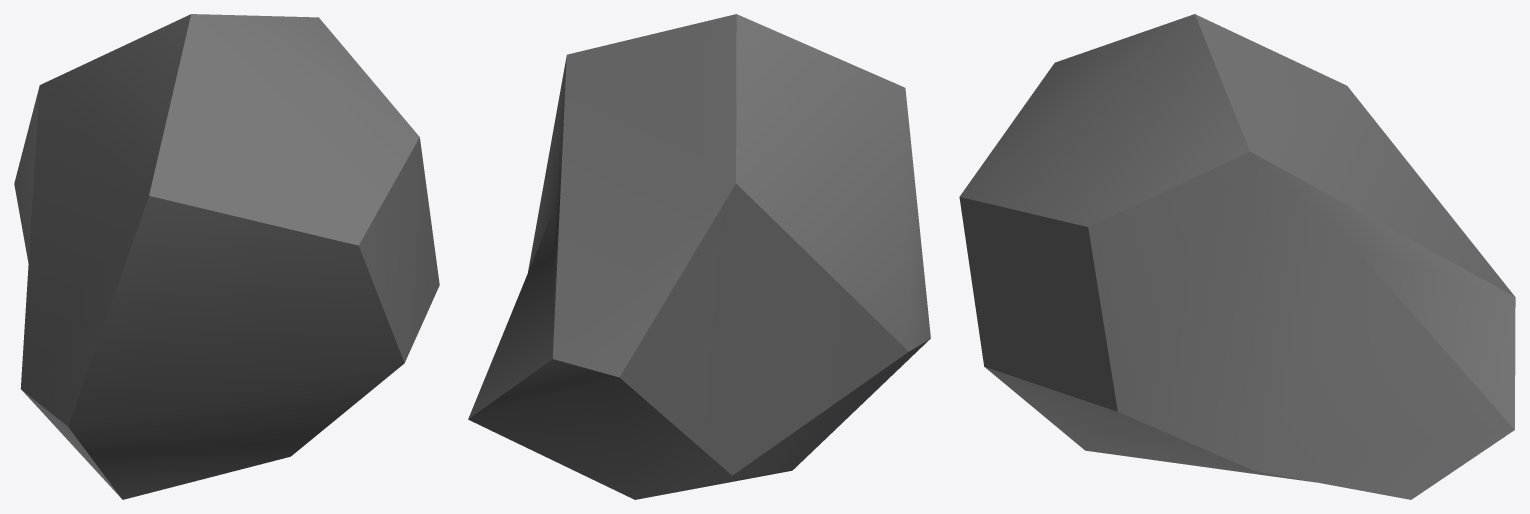
Rendered from rock_big_1.fbx.
The picture shows the model from 3 angles, left to right: view 1: azimuth 30°, elevation 25°; view 2: azimuth 150°, elevation 25°; view 3: azimuth 270°, elevation 25°; orthographic projection. The views are drawn at different scales.
Visible parts, largest first — view 1: rock_big_1; view 2: rock_big_1; view 3: rock_big_1.
Boxes of the visible parts, bbox=[...] form: rock_big_1: bbox=[14, 14, 439, 499]; rock_big_1: bbox=[468, 14, 930, 499]; rock_big_1: bbox=[959, 14, 1515, 499].
Bounding box in the file's own units: 102 × 119 × 126.
